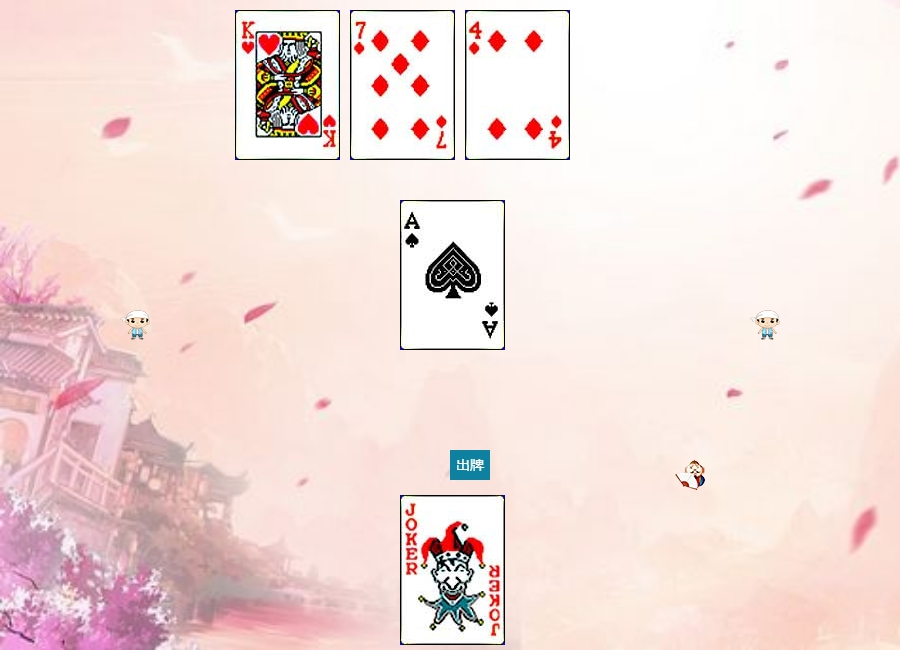13~3: (235, 10, 340, 160)
14~4: (400, 200, 505, 350)
18~4: (400, 495, 505, 645)
4~1: (465, 10, 570, 160)
7~1: (350, 10, 455, 160)
